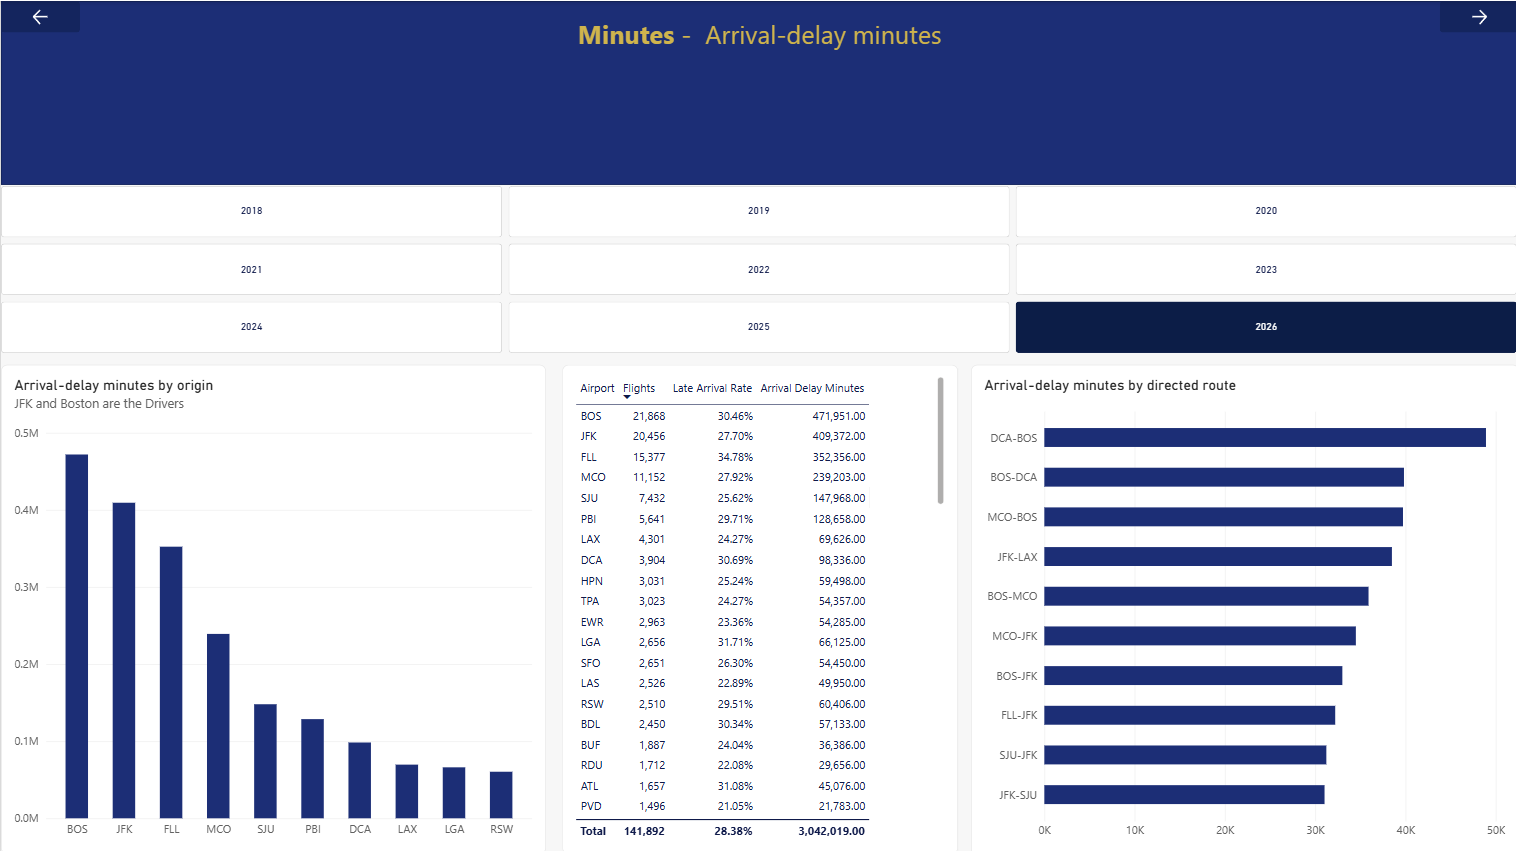

What the dashboard file says about the page in this screenshot:
{"tool":"powerbi","page":{"name":"Minutes","canvas":[1920,1080],"ordinal":2},"visuals":[{"type":"columnChart","title":"Arrival-delay minutes by origin","fields":{"Category":["Dim_Origin.Airport"],"Y":["Fact_Flight.Arrival Delay Minutes"]},"box":[0,459.7,689.6,619.1],"z":0},{"type":"tableEx","fields":{"Values":["Dim_Origin.Airport","Fact_Flight.Flights","Fact_Flight.Late Arrival Rate","Fact_Flight.Arrival Delay Minutes"]},"box":[709.9,459.7,500.5,619.1],"z":1000},{"type":"clusteredBarChart","title":"Arrival-delay minutes by directed route","fields":{"Category":["Dim_Route.Route_Key"],"Y":["Fact_Flight.Arrival Delay Minutes"]},"box":[1227.1,459.7,693.3,621],"z":2000},{"type":"advancedSlicerVisual","fields":{"Values":["Dim_Month.Month_Start.Variation.Date Hierarchy.Year"]},"box":[0,233.6,1920.4,211.3],"z":3000},{"type":"shape","box":[0,0,1920.4,232.6],"z":4000},{"type":"textbox","box":[0,20.6,1920.4,181.1],"z":5000},{"type":"actionButton","box":[0,0,100,40],"z":6000},{"type":"actionButton","box":[1820.9,0,100,40],"z":7000}]}

Visuals, with their boxes in screenshot pixels (x1, y1, x2, y2), scaled from the page's 1920x1080 canvas onto the 1516x851 screenshot:
"Arrival-delay minutes by origin" columnChart: [0,362,544,850]
tableEx - Dim_Origin.Airport x Fact_Flight.Flights: [561,362,956,850]
"Arrival-delay minutes by directed route" clusteredBarChart: [969,362,1515,850]
advancedSlicerVisual - Dim_Month.Month_Start.Variation.Date Hierarchy.Year: [0,184,1515,351]
shape: [0,0,1515,183]
textbox: [0,16,1515,159]
actionButton: [0,0,79,32]
actionButton: [1438,0,1515,32]
